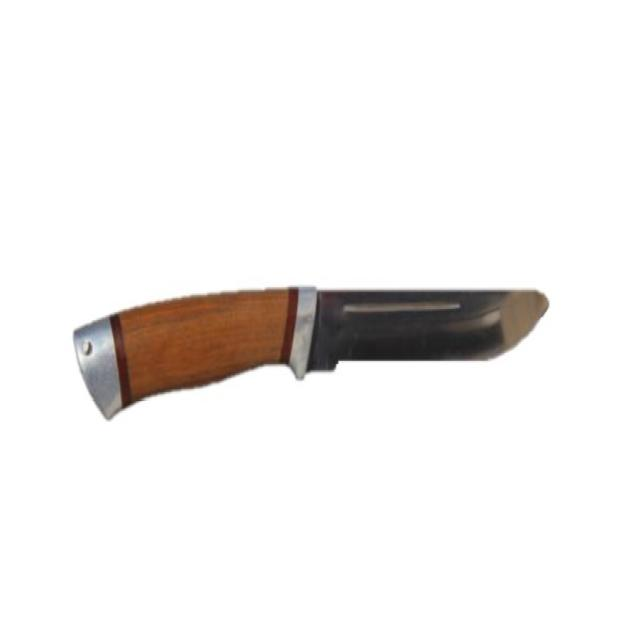knife: (71, 278, 565, 432)
